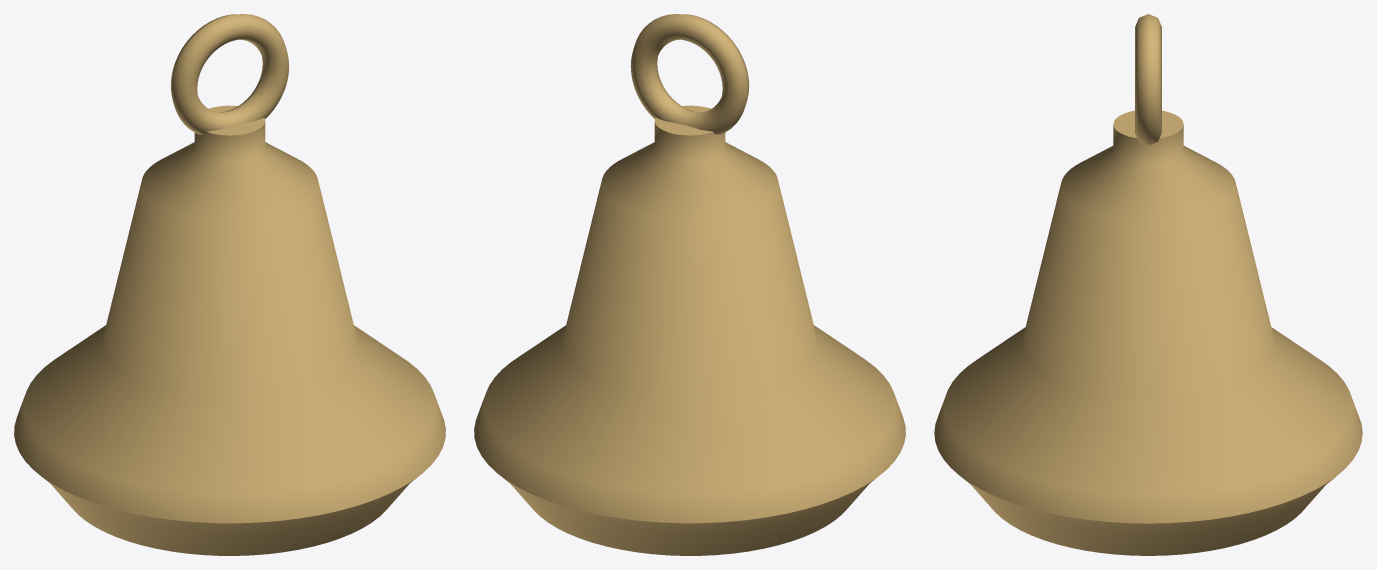
Rendered from griffin-airmail-roost-and-posthouse-signal-bell-87b22605__30535.glb.
3 renders of one model, left to right at view 1: azimuth 30°, elevation 25°; view 2: azimuth 150°, elevation 25°; view 3: azimuth 270°, elevation 25°, orthographic.
Visible parts, largest first — view 1: signal-bell; view 2: signal-bell; view 3: signal-bell.
Part boxes in pixels (bbox=[...]): signal-bell: bbox=[14, 14, 445, 555]; signal-bell: bbox=[474, 14, 905, 555]; signal-bell: bbox=[934, 14, 1362, 555].
Size of the model in its own units: 0.22 by 0.264 by 0.22.
